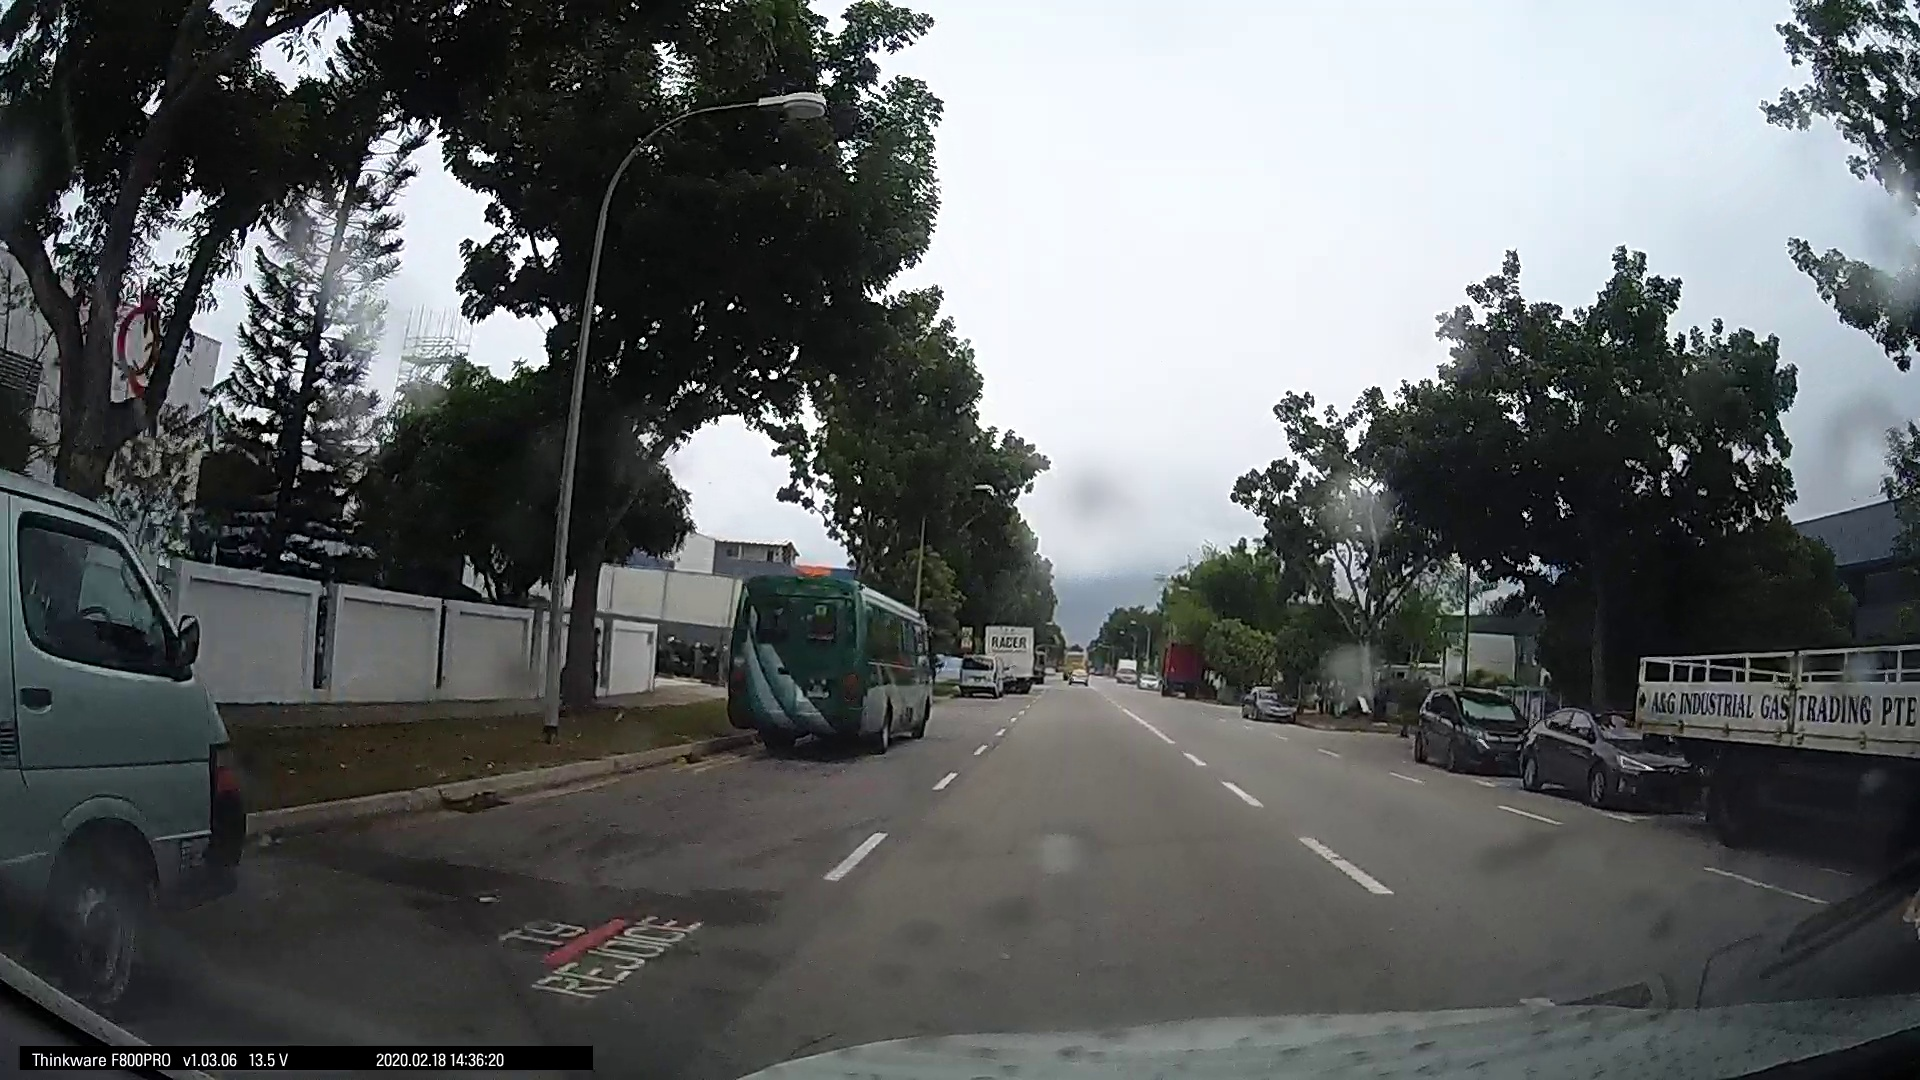Heavy Vehicle: (3, 468, 236, 1000), (721, 568, 938, 756), (975, 621, 1036, 691)
Light Vehicle: (1515, 699, 1667, 804), (1407, 683, 1527, 774), (949, 649, 1006, 698), (1244, 680, 1296, 721)
